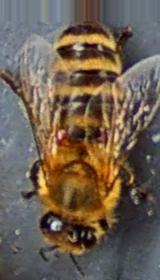varroa_mite: (50, 123, 74, 142)
